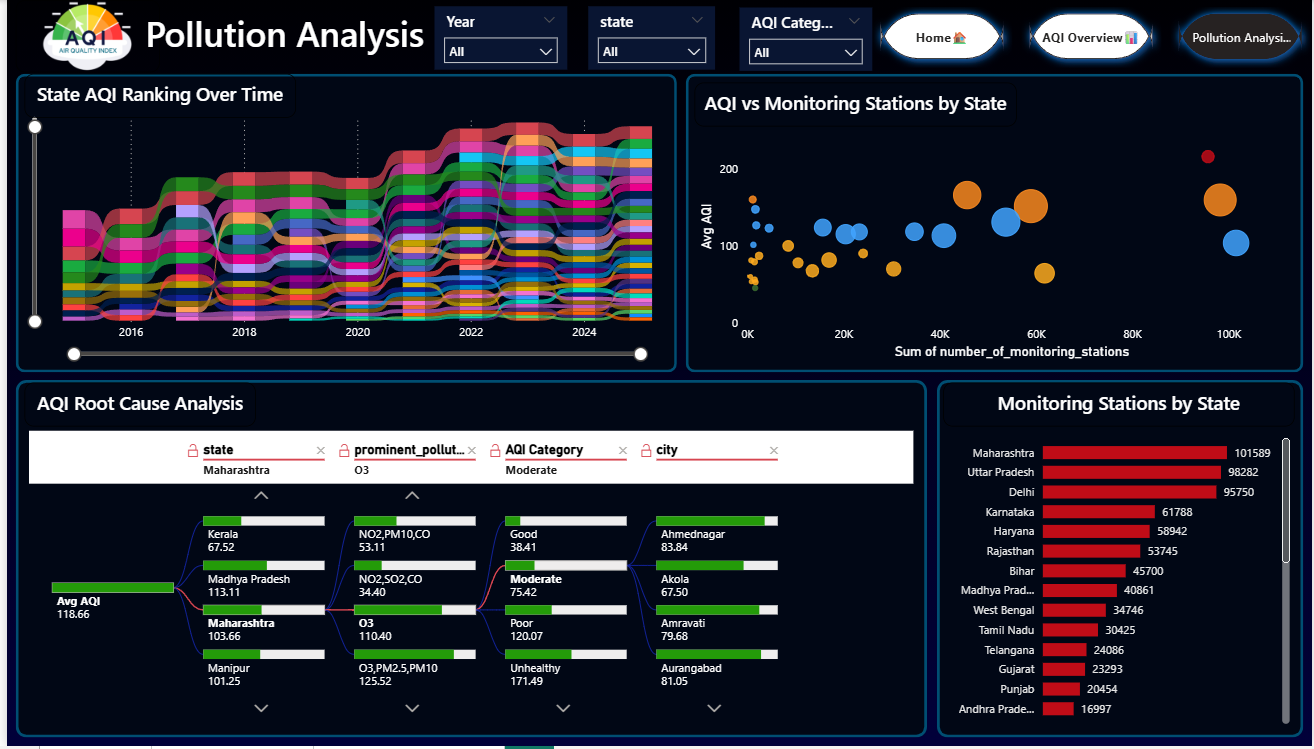

The dashboard page shown, as its layout file describes it:
{"tool":"powerbi","page":{"name":"Pollution Analysis🌫️","canvas":[1400,800],"ordinal":2},"visuals":[{"type":"shape","box":[9.4,79.1,709.1,320.4],"z":0},{"type":"shape","box":[997.3,407.5,392.8,383.4],"z":1000},{"type":"shape","box":[9.4,407.5,977.2,383.4],"z":2000},{"type":"shape","box":[727.9,79.1,662.2,320.4],"z":3000},{"type":"scatterChart","fields":{"X":["Sum(india_aqi_project aqi_data.number_of_monitoring_stations)"],"Series":["india_aqi_project aqi_data.state"],"Size":["Sum(india_aqi_project aqi_data.aqi_value)"],"Y":["india_aqi_project aqi_data.Avg AQI"]},"box":[737.3,126,643.4,264.1],"z":4000},{"type":"card","fields":{"Values":["india_aqi_project aqi_data.Title for Scatter Plot"]},"box":[737.3,88.5,345.8,46.9],"z":5000},{"type":"decompositionTreeVisual","fields":{"Analyze":["india_aqi_project aqi_data.Avg AQI"],"ExplainBy":["india_aqi_project aqi_data.state","india_aqi_project aqi_data.prominent_pollutants","india_aqi_project aqi_data.AQI Category","india_aqi_project aqi_data.area"]},"box":[18.8,457.1,958.5,324.4],"z":6000},{"type":"card","fields":{"Values":["india_aqi_project aqi_data.Title for Decomposition tress"]},"box":[19.1,410.8,357.4,45.8],"z":7000},{"type":"slicer","fields":{"Values":["india_aqi_project aqi_data.AQI Category"]},"box":[785.4,7.4,142.2,68],"z":8000},{"type":"clusteredBarChart","fields":{"Category":["india_aqi_project aqi_data.state"],"Y":["Sum(india_aqi_project aqi_data.number_of_monitoring_stations)"]},"box":[1004,457.1,376.7,324.4],"z":9000},{"type":"card","fields":{"Values":["india_aqi_project aqi_data.Title of bar for monitoring station by state"]},"box":[1004,410.2,376.7,46.9],"z":10000},{"type":"image","box":[9.4,0,154.2,77.7],"z":11000},{"type":"ribbonChart","fields":{"Category":["Calendar Table.Year"],"Series":["india_aqi_project aqi_data.state"],"Y":["india_aqi_project aqi_data.Avg AQI"]},"box":[18.8,112.6,690.4,277.5],"z":12000},{"type":"card","fields":{"Values":["india_aqi_project aqi_data.Title for ribbion chart"]},"box":[18.8,79.1,290.9,46.9],"z":13000},{"type":"slicer","fields":{"Values":["Calendar Table.Year"]},"box":[458.9,6.2,142.2,68],"z":14000},{"type":"slicer","fields":{"Values":["india_aqi_project aqi_data.state"]},"box":[623.4,6.2,136.1,68],"z":15000},{"type":"textbox","box":[143.4,5.4,315,67],"z":16000},{"type":"pageNavigator","box":[927.6,5.4,471.9,67],"z":17000}]}

Visuals, with their boxes in screenshot pixels (x1, y1, x2, y2), scaled from the page's 1400x800 canvas onto the 1314x749 screenshot:
shape: (x1=9, y1=74, x2=674, y2=374)
shape: (x1=936, y1=382, x2=1305, y2=740)
shape: (x1=9, y1=382, x2=926, y2=740)
shape: (x1=683, y1=74, x2=1305, y2=374)
scatterChart - Sum(india_aqi_project aqi_data.number_of_monitoring_stations) x india_aqi_project aqi_data.state: (x1=692, y1=118, x2=1296, y2=365)
card - india_aqi_project aqi_data.Title for Scatter Plot: (x1=692, y1=83, x2=1017, y2=127)
decompositionTreeVisual - india_aqi_project aqi_data.Avg AQI x india_aqi_project aqi_data.state: (x1=18, y1=428, x2=917, y2=732)
card - india_aqi_project aqi_data.Title for Decomposition tress: (x1=18, y1=385, x2=353, y2=427)
slicer - india_aqi_project aqi_data.AQI Category: (x1=737, y1=7, x2=871, y2=71)
clusteredBarChart - india_aqi_project aqi_data.state x Sum(india_aqi_project aqi_data.number_of_monitoring_stations): (x1=942, y1=428, x2=1296, y2=732)
card - india_aqi_project aqi_data.Title of bar for monitoring station by state: (x1=942, y1=384, x2=1296, y2=428)
image: (x1=9, y1=0, x2=154, y2=73)
ribbonChart - Calendar Table.Year x india_aqi_project aqi_data.state: (x1=18, y1=105, x2=666, y2=365)
card - india_aqi_project aqi_data.Title for ribbion chart: (x1=18, y1=74, x2=291, y2=118)
slicer - Calendar Table.Year: (x1=431, y1=6, x2=564, y2=69)
slicer - india_aqi_project aqi_data.state: (x1=585, y1=6, x2=713, y2=69)
textbox: (x1=135, y1=5, x2=430, y2=68)
pageNavigator: (x1=871, y1=5, x2=1313, y2=68)
